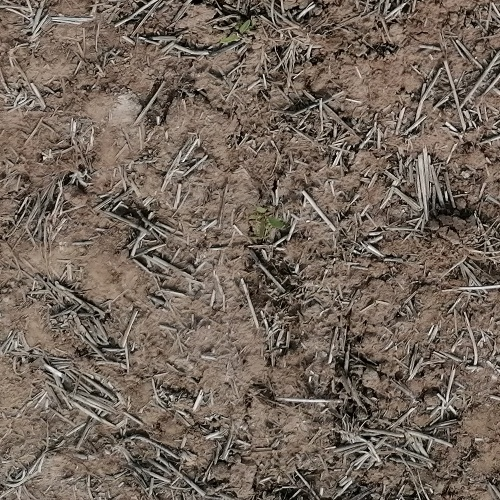beet: (251, 206, 285, 236), (222, 20, 251, 44)
